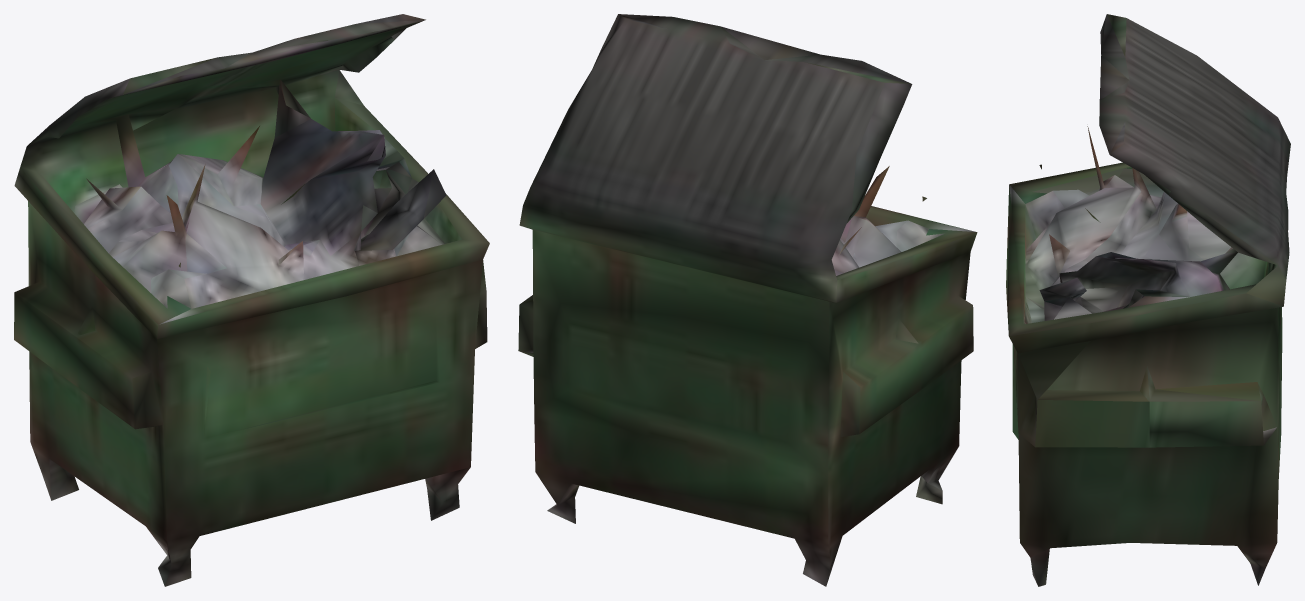
File: prop_dumpster.glb
The picture shows the model from 3 angles, left to right: view 1: azimuth 30°, elevation 25°; view 2: azimuth 150°, elevation 25°; view 3: azimuth 270°, elevation 25°; orthographic projection. The views are drawn at different scales.
Parts seen in each view (by area): view 1: Mesh_0; view 2: Mesh_0; view 3: Mesh_0.
Boxes of the visible parts, box(x1,y1,x2,y2) form: Mesh_0: box(14, 14, 489, 586); Mesh_0: box(518, 14, 977, 586); Mesh_0: box(1006, 14, 1290, 586).
Size of the model in its own units: 1.54 by 1.97 by 1.13.
Materials: 1 (1 with a texture image).
